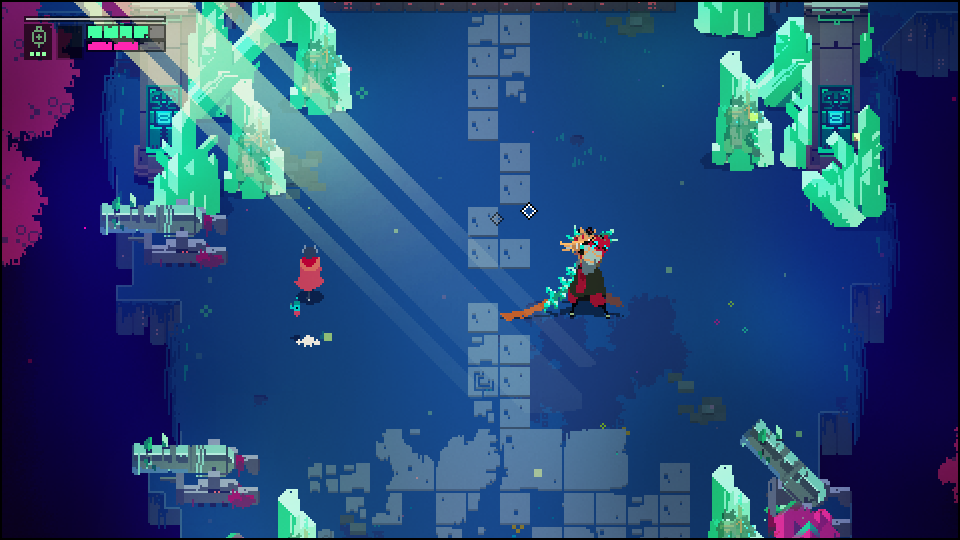hanged_man: (539, 216, 614, 332)
player: (292, 238, 325, 306)
